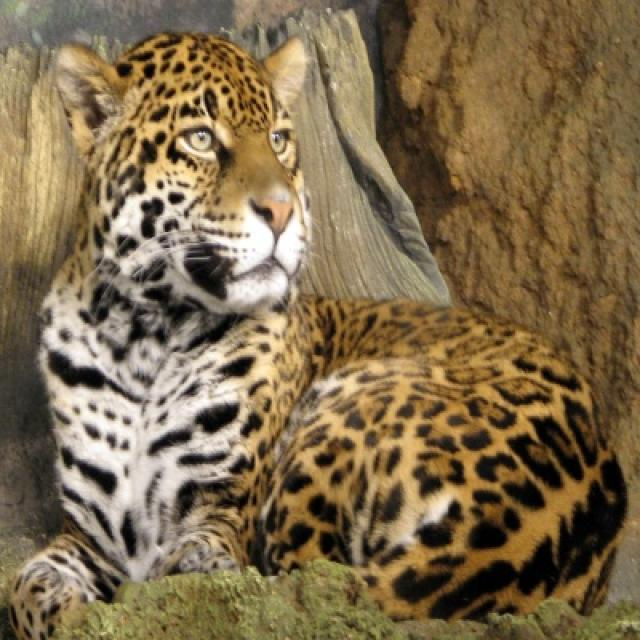Jaguar: (1, 22, 633, 638)
